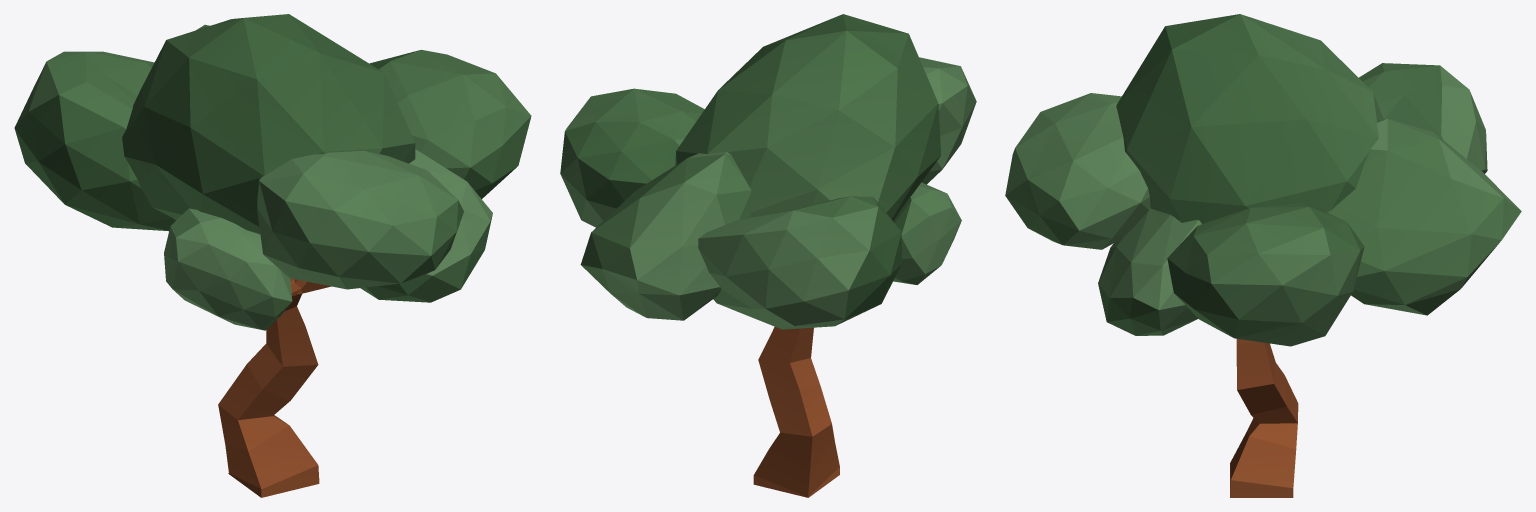
Rendered from pohon 3.fbx.
The picture shows the model from 3 angles, left to right: view 1: azimuth 30°, elevation 25°; view 2: azimuth 150°, elevation 25°; view 3: azimuth 270°, elevation 25°; orthographic projection. The views are drawn at different scales.
Visible parts, largest first — view 1: pohon 3; view 2: pohon 3; view 3: pohon 3.
Part boxes in pixels (x1=…): pohon 3: x1=14, y1=14, x2=531, y2=497; pohon 3: x1=560, y1=14, x2=976, y2=497; pohon 3: x1=1005, y1=14, x2=1521, y2=497.
Size of the model in its own units: 373 by 426 by 442.
